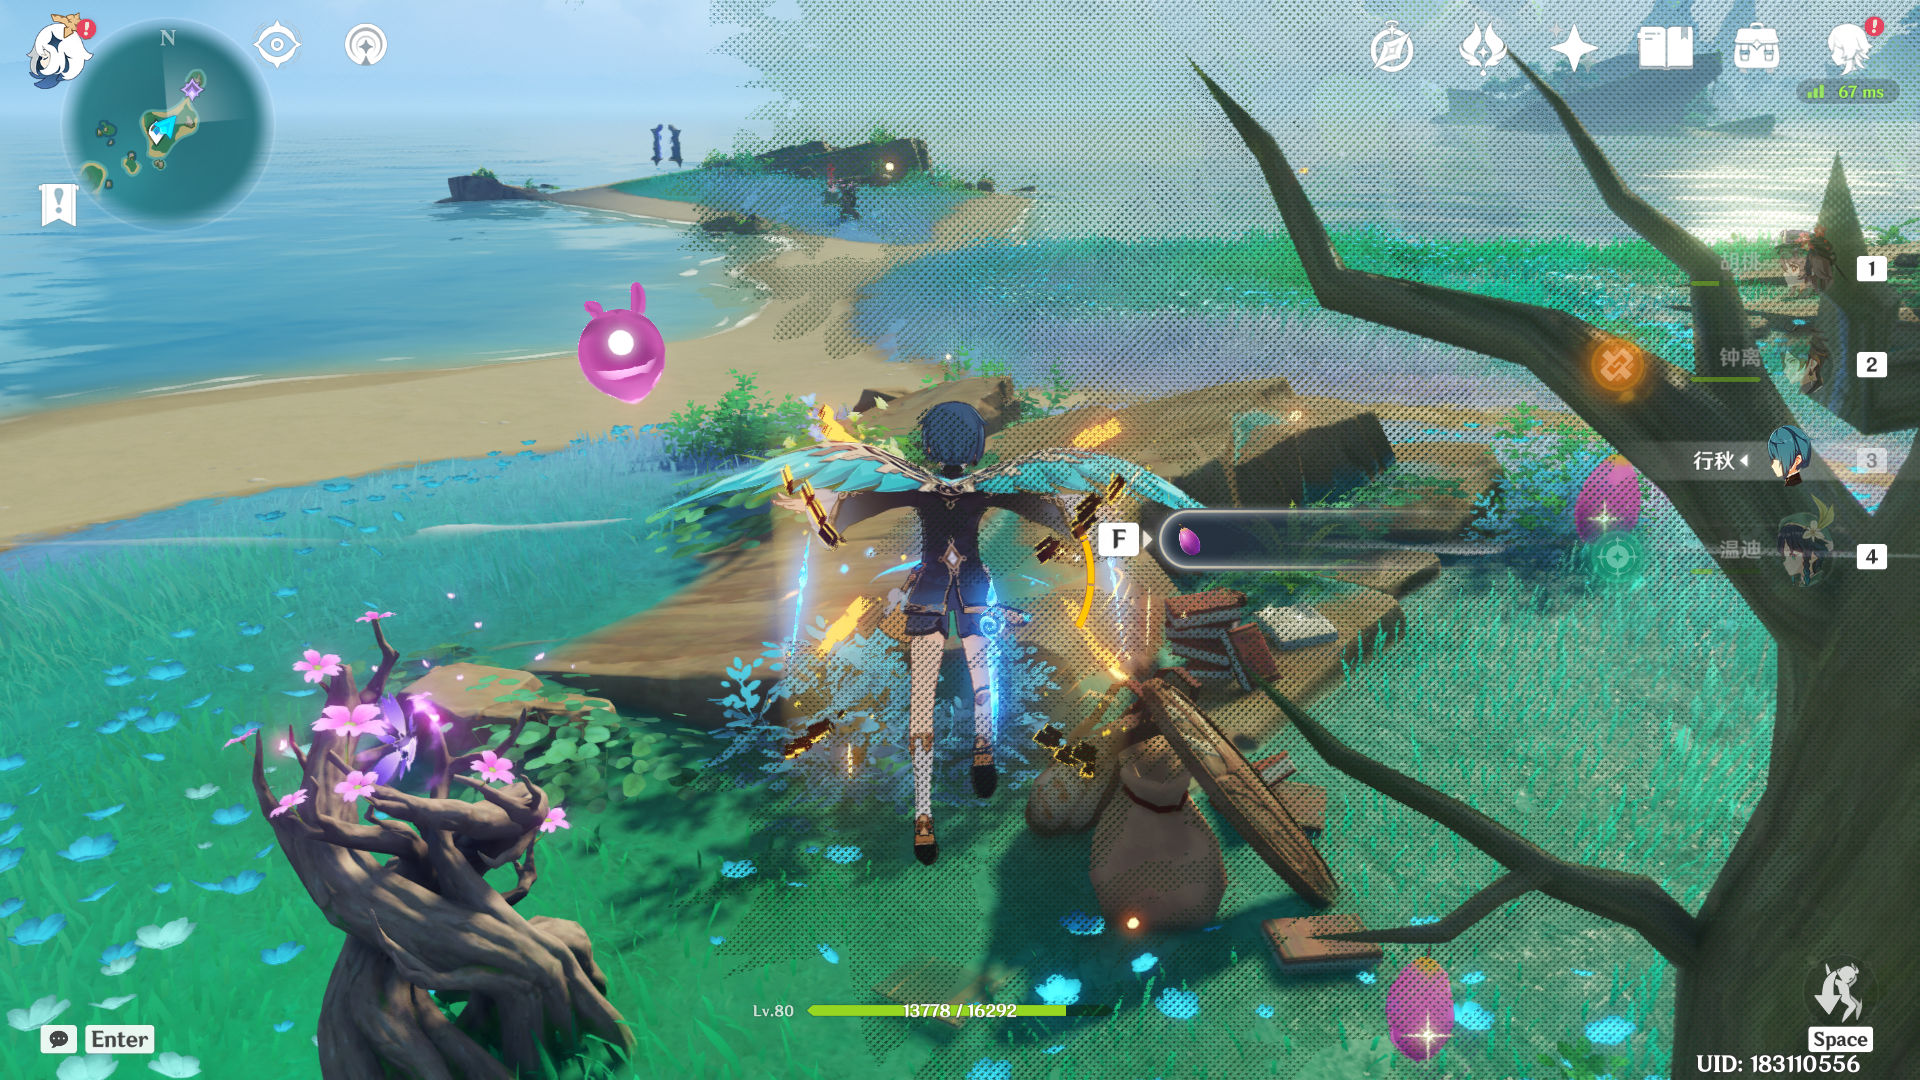character: (785, 375, 1122, 862)
